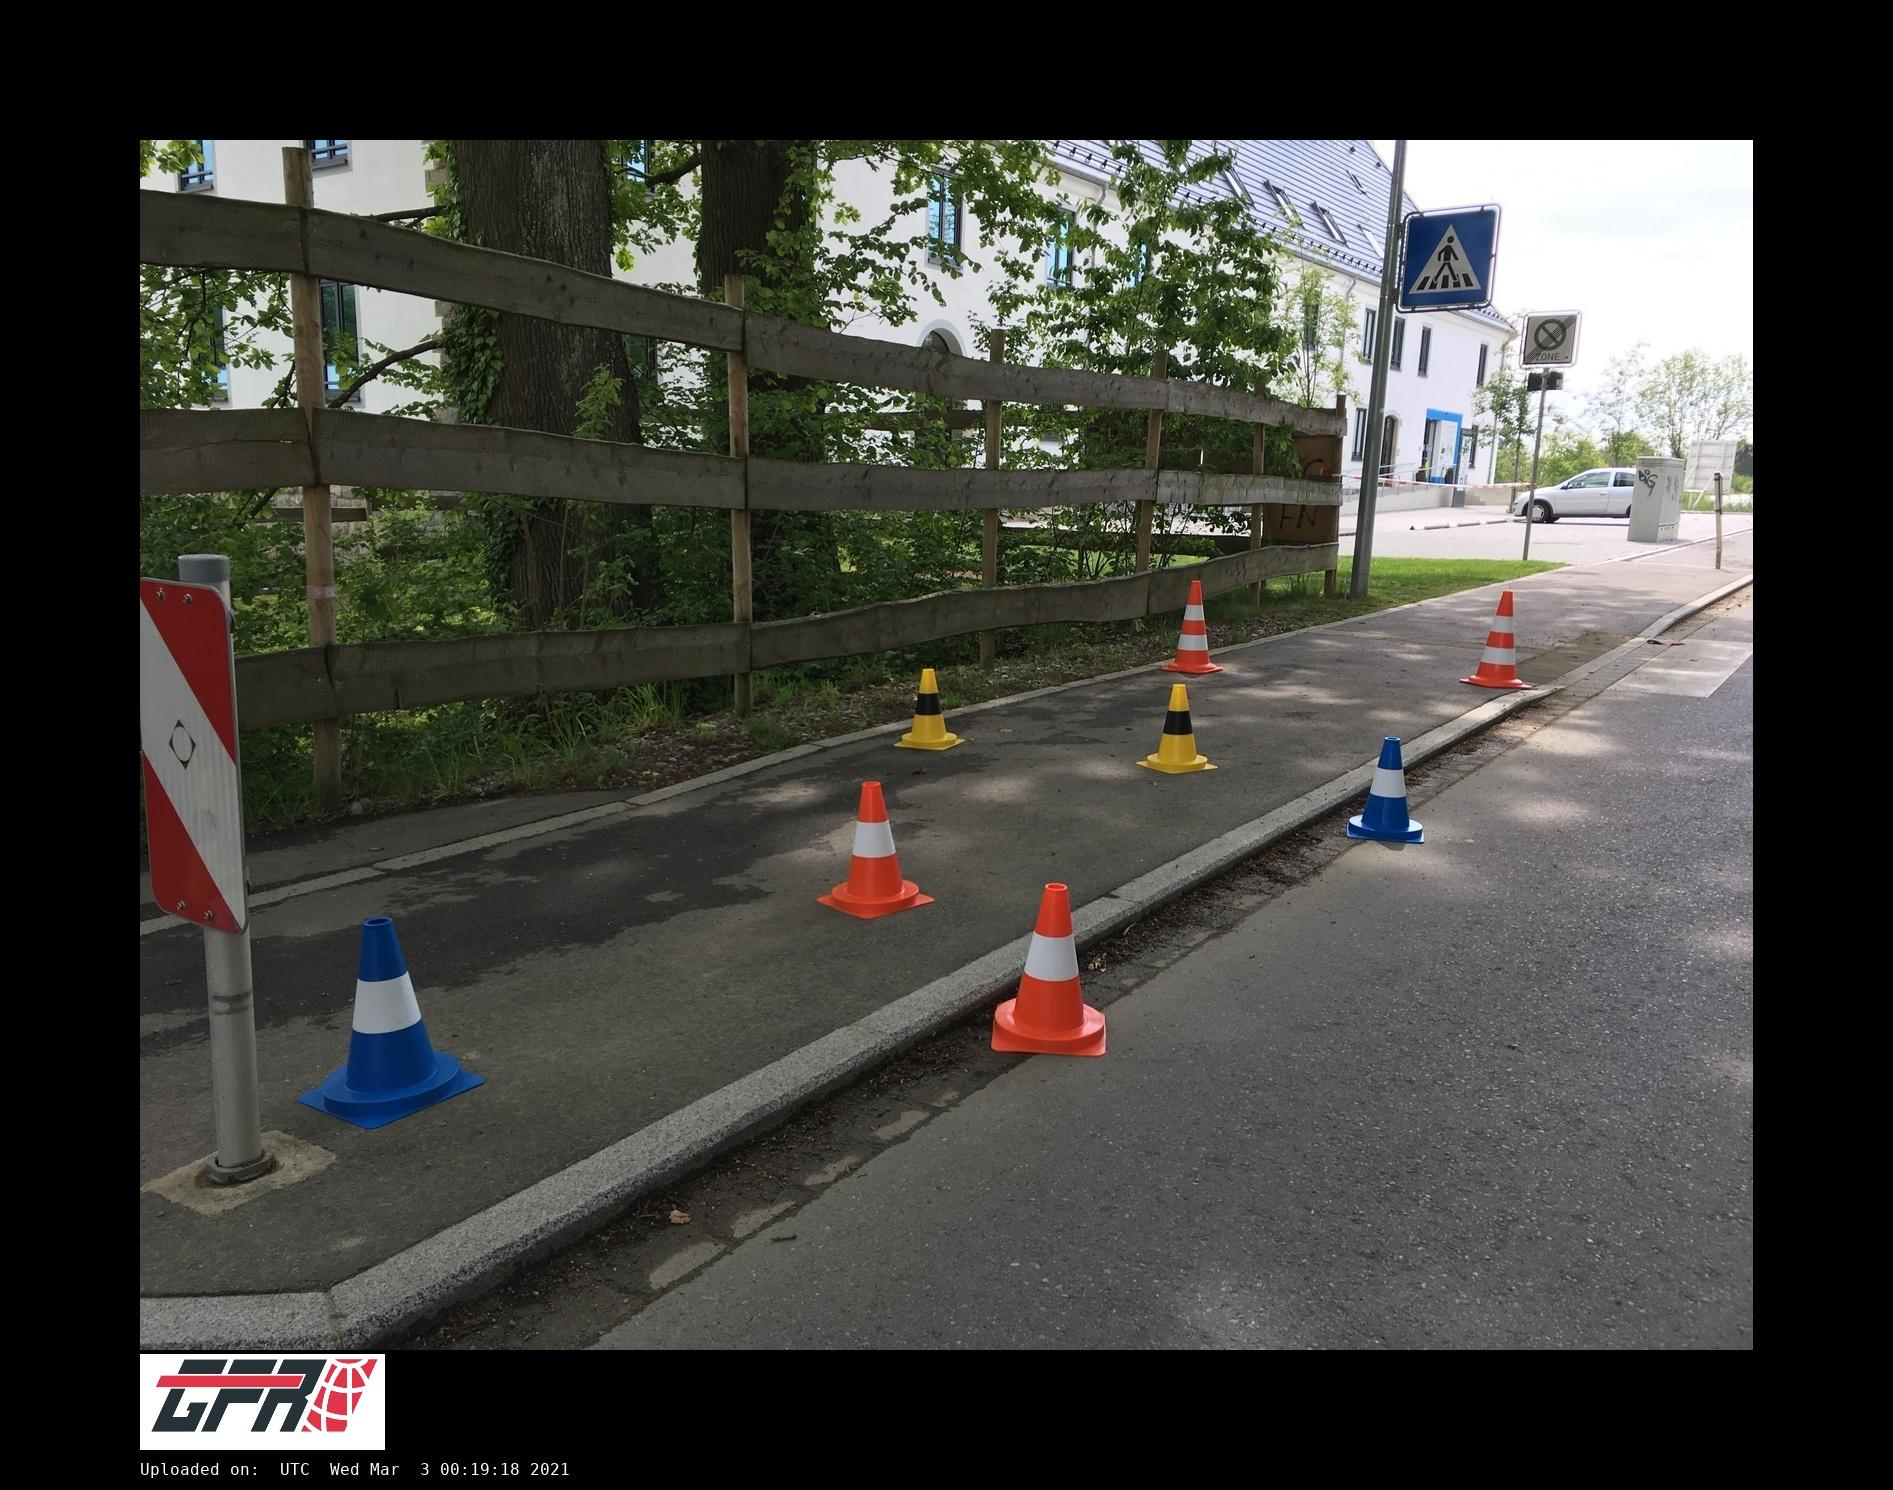blue_cone: (298, 917, 484, 1127), (1348, 737, 1423, 843)
large_orange_cone: (1460, 590, 1532, 690), (1162, 581, 1223, 673)
orange_cone: (991, 882, 1106, 1055), (819, 782, 934, 919)
yellow_cone: (1137, 684, 1217, 773), (894, 670, 963, 750)
